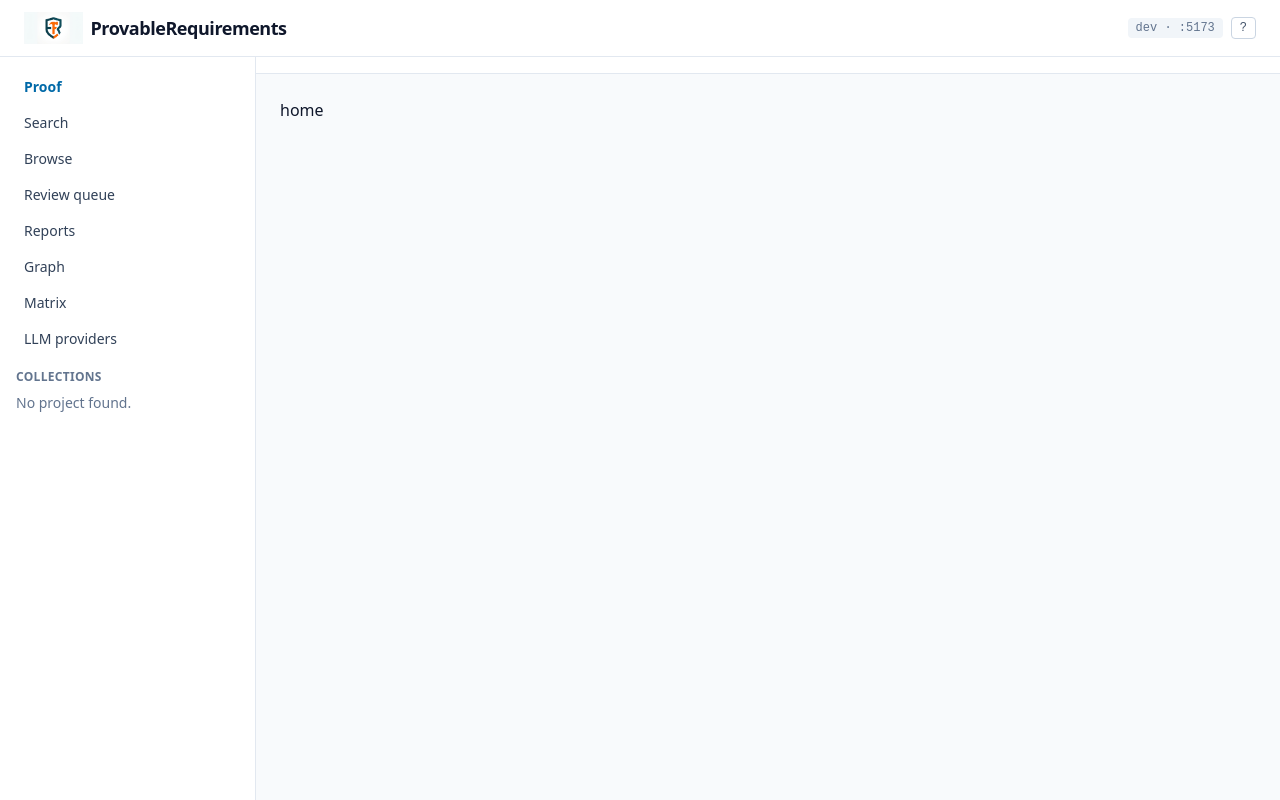
it: AppShell › opens the overlay when the header button is clicked
Click the button with test id "header-shortcuts-button". click: (1243, 28)
box: x1=1231 y1=17 x2=1256 y2=39
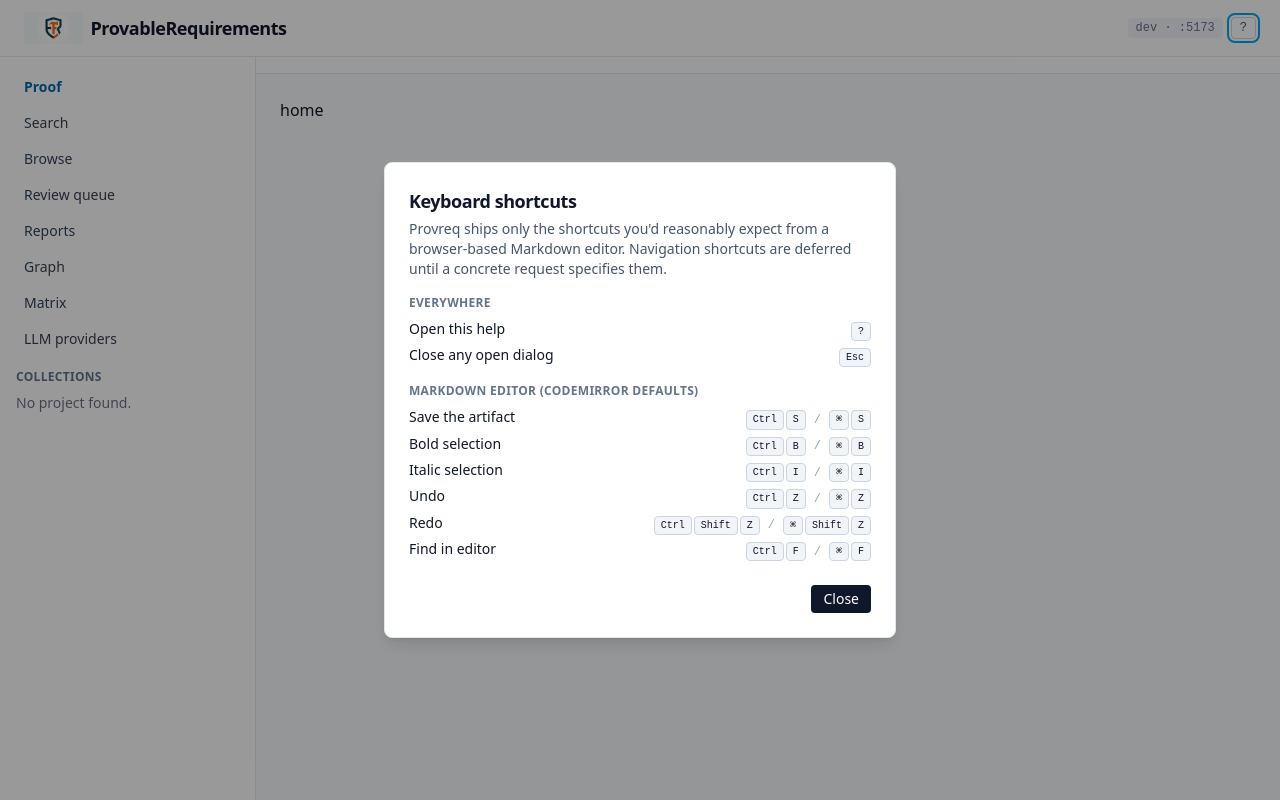
Now the dialog with test id "keyboard-shortcuts-overlay" is shown
